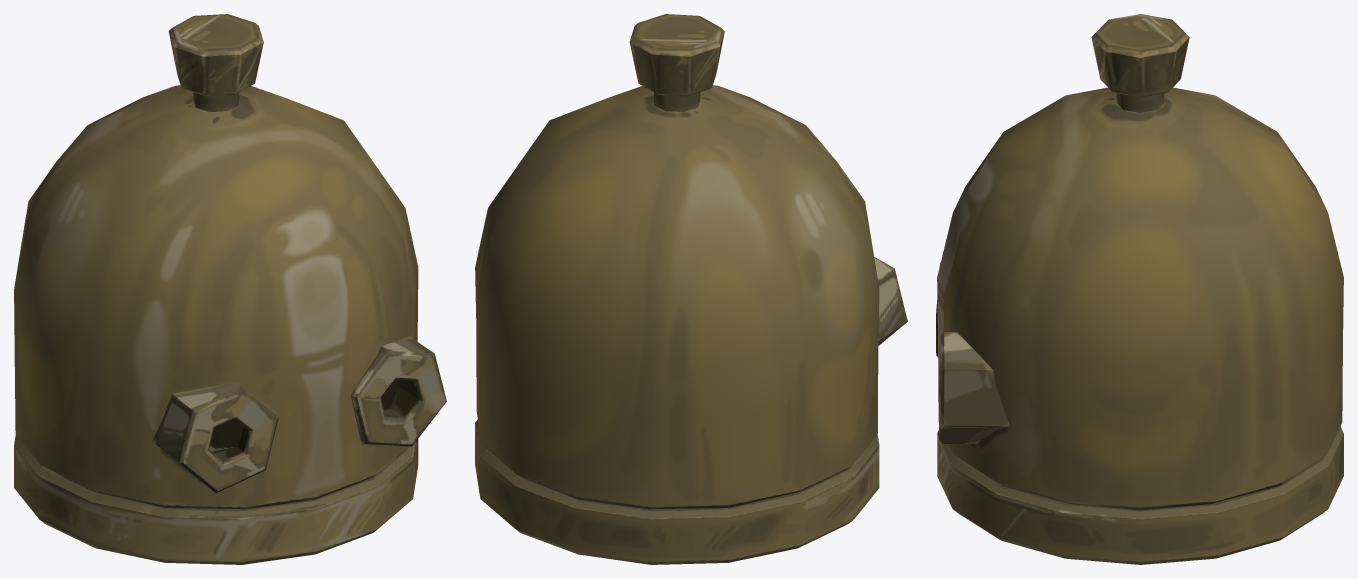
File: CRYINGBABYHEAD.fbx
3 views of the same model, side by side, from view 1: azimuth 30°, elevation 25°; view 2: azimuth 150°, elevation 25°; view 3: azimuth 270°, elevation 25° (orthographic).
Parts seen in each view (by area): view 1: polySurface1, polySurface2, pPipe7, pPipe6; view 2: polySurface1, polySurface2, pPipe7; view 3: polySurface1, polySurface2, pPipe6.
Part boxes in pixels (box(x1,y1,x2,y2)): polySurface1: box(14, 14, 418, 509); polySurface2: box(14, 434, 418, 564); pPipe7: box(152, 382, 278, 493); pPipe6: box(350, 336, 446, 446); polySurface1: box(475, 14, 879, 509); polySurface2: box(475, 419, 879, 564); pPipe7: box(874, 257, 907, 345); polySurface1: box(937, 14, 1343, 510); polySurface2: box(937, 426, 1343, 564); pPipe6: box(938, 332, 1009, 443).
Size of the model in its own units: 10.91 by 13.27 by 10.94.
1 material, 1 textured.
